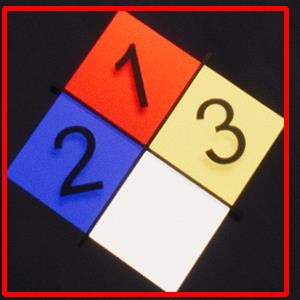nfpa: (4, 8, 286, 294)
